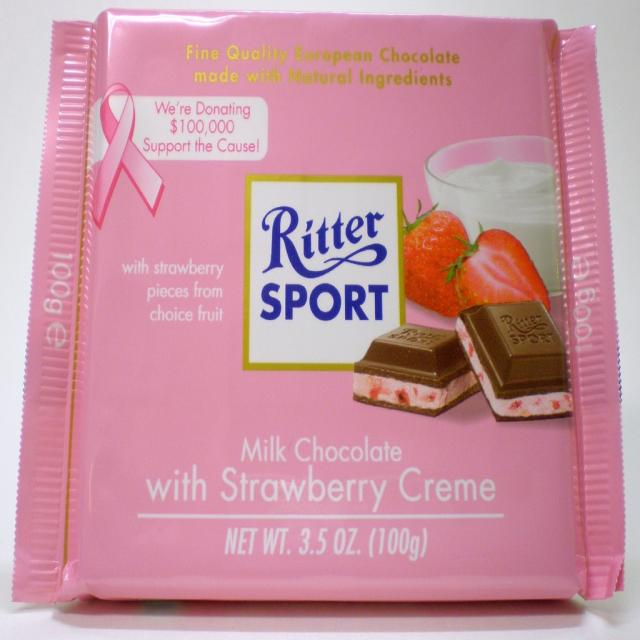rittersport: (241, 177, 407, 373)
